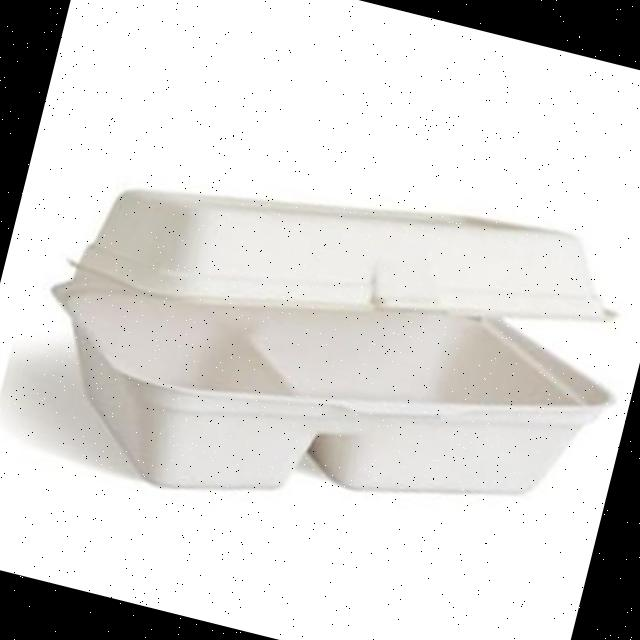styrofoam: (9, 109, 640, 588)
